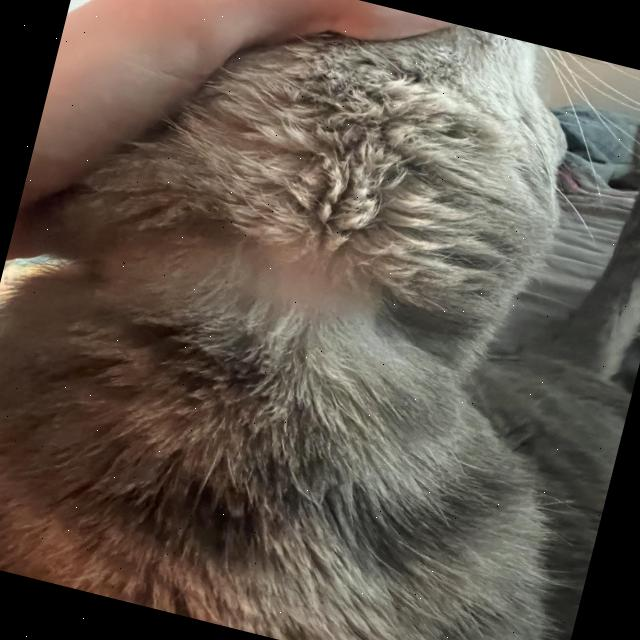cat-hairloss: (102, 134, 481, 428)
